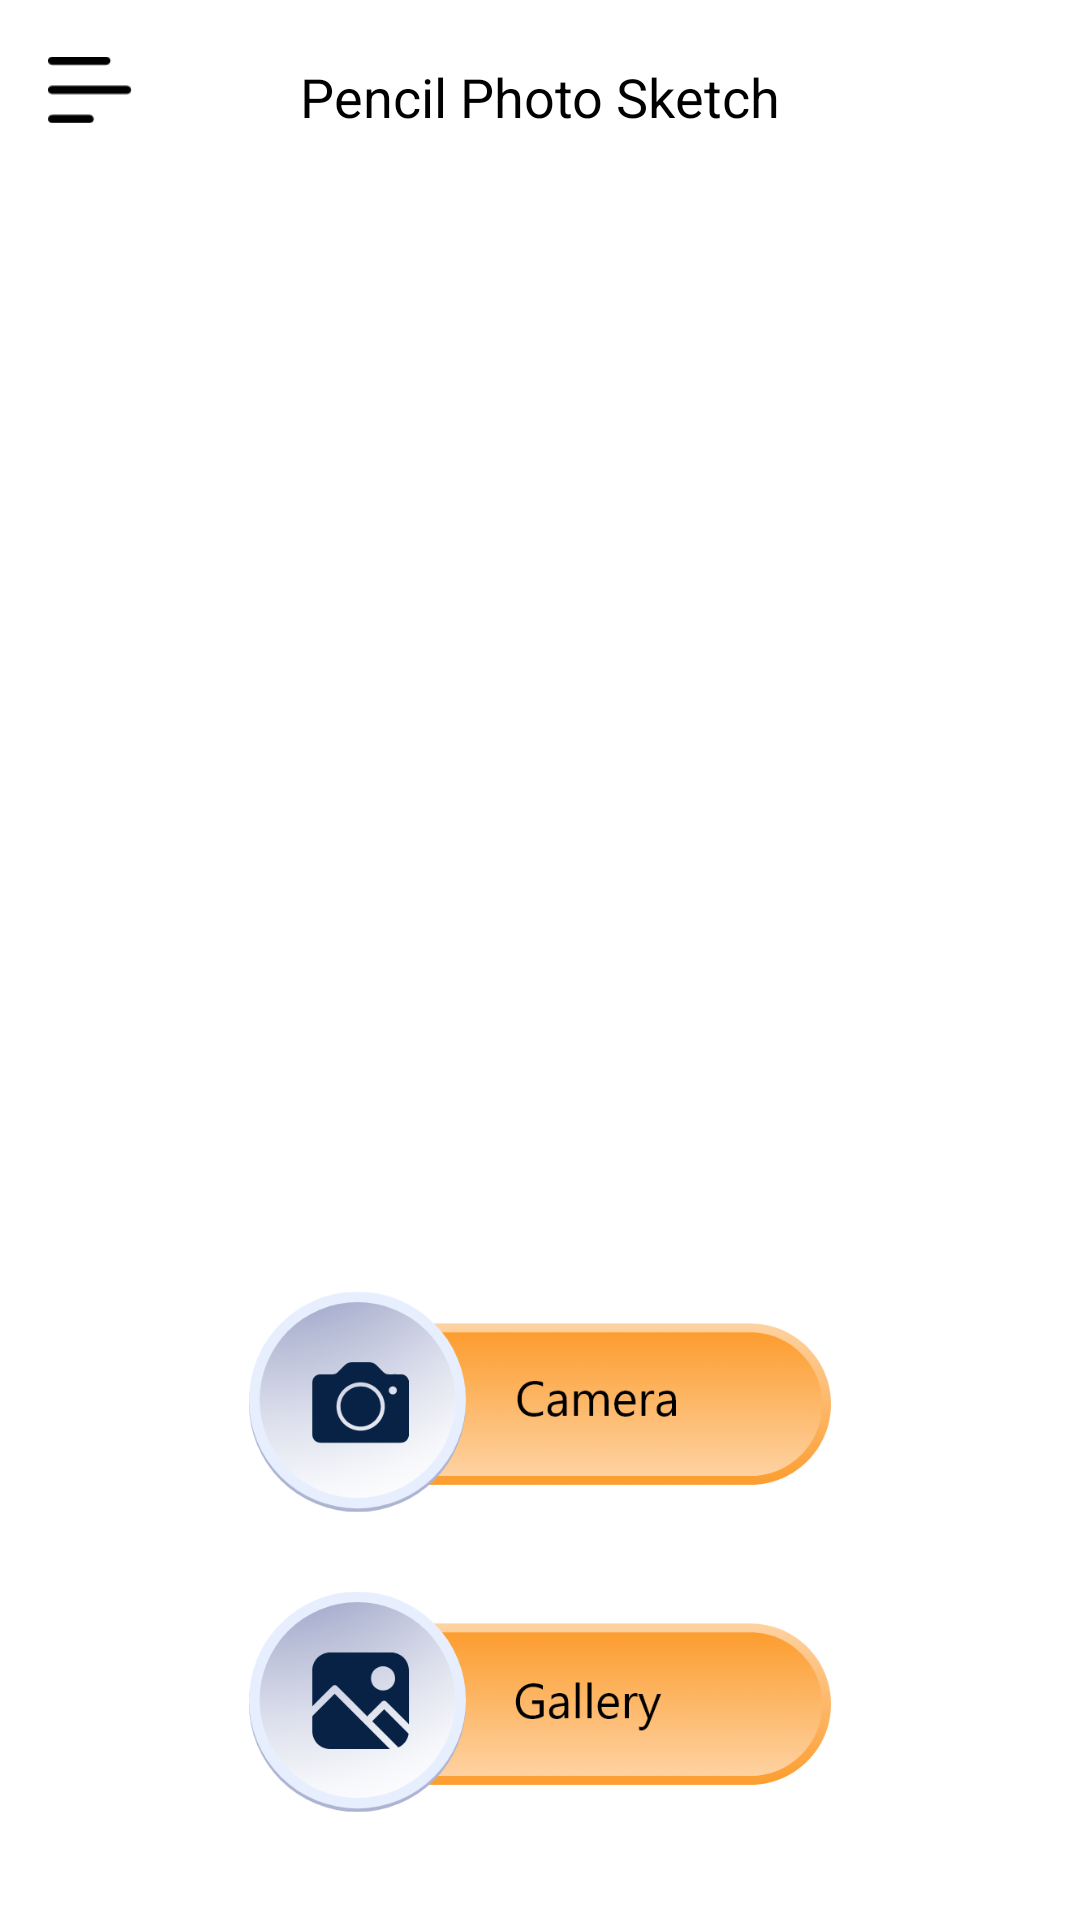

Icon click points for this 1080px x 1920px phone screenshot, format point (x, y):
menu: point (90, 90)
